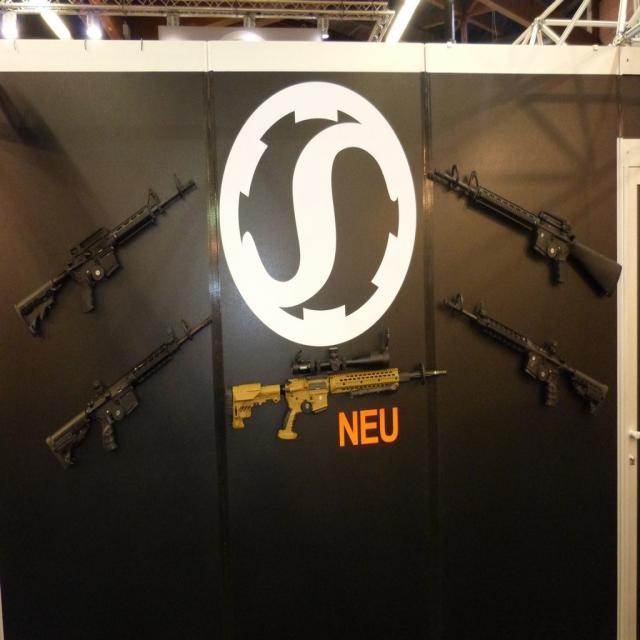firearm: (17, 174, 197, 335), (46, 316, 216, 468), (225, 328, 446, 442), (434, 168, 622, 299), (445, 295, 611, 415)
